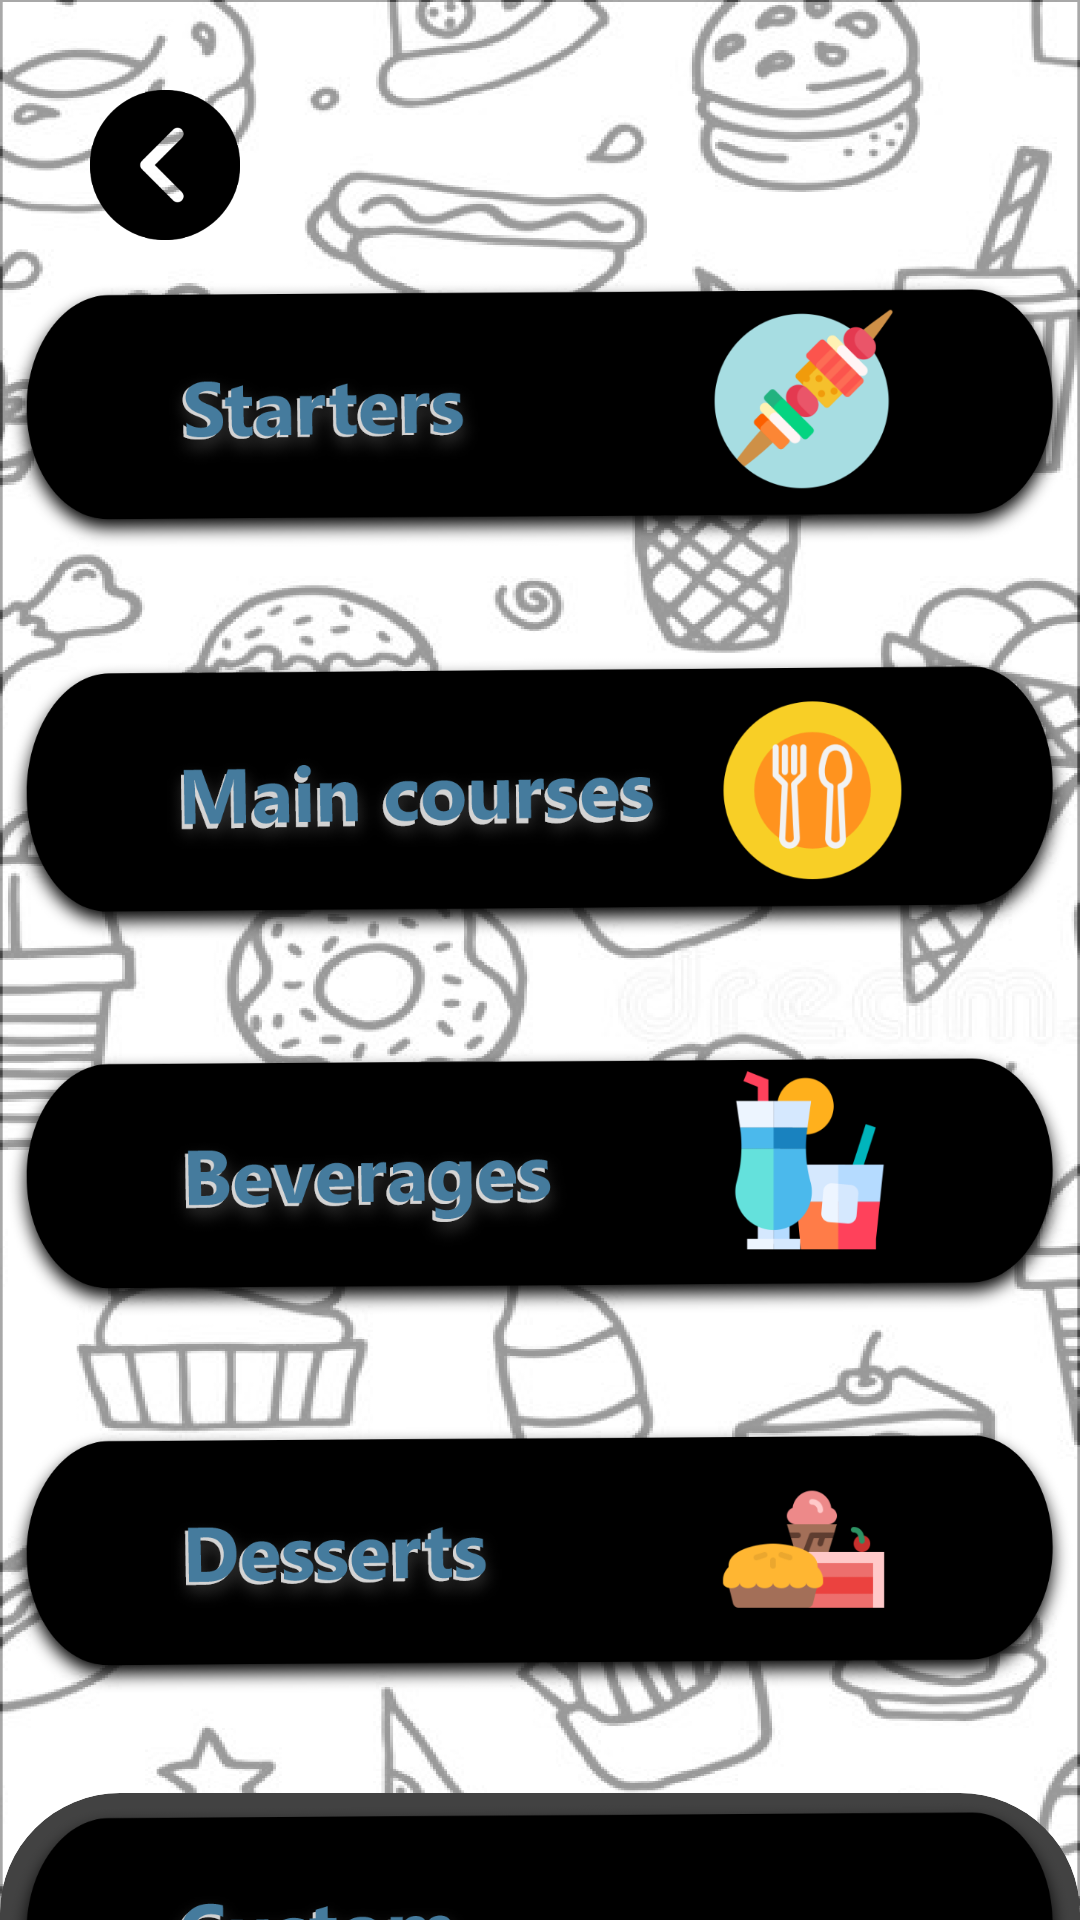

Screen size 1080×1920. Icon name, then its center in pixels as (x=x, y=y):
previous: (x=165, y=165)
